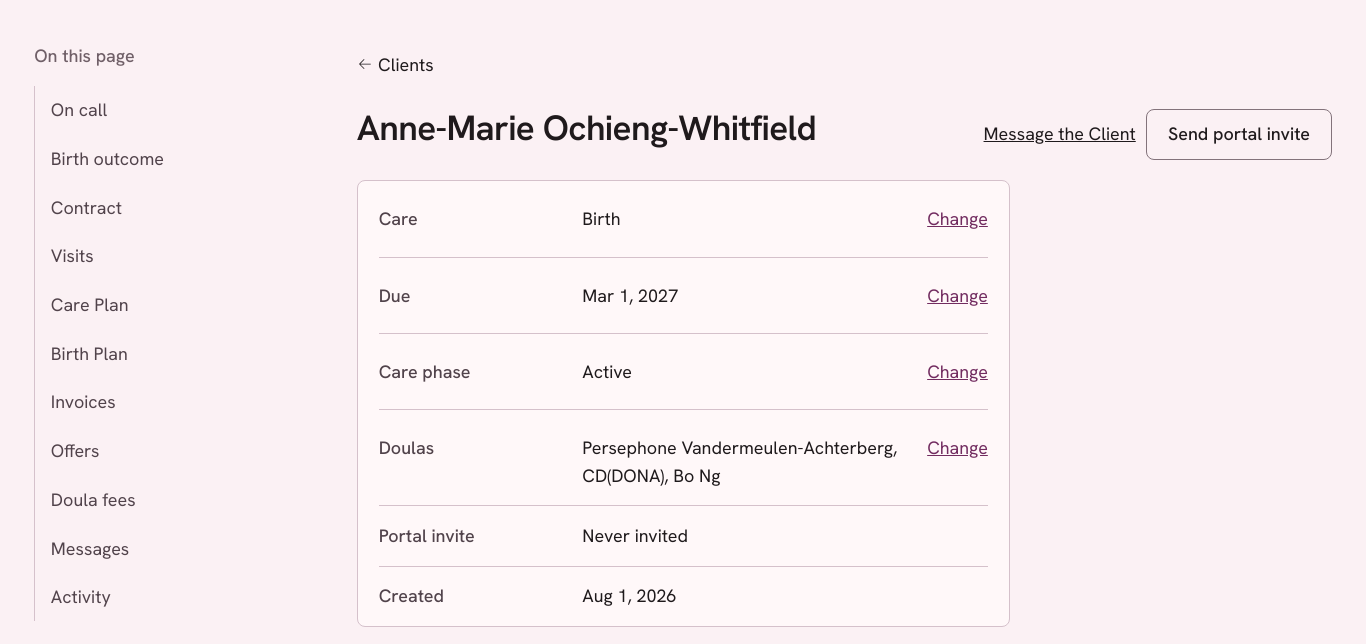
Scenario: the due date's Change (#2013) › refuses a date with a box left empty before anything is sent
Step 1. Click the button "Change" in the row of "Mar 1, 2027" → (958, 295), box [927, 273, 988, 317]
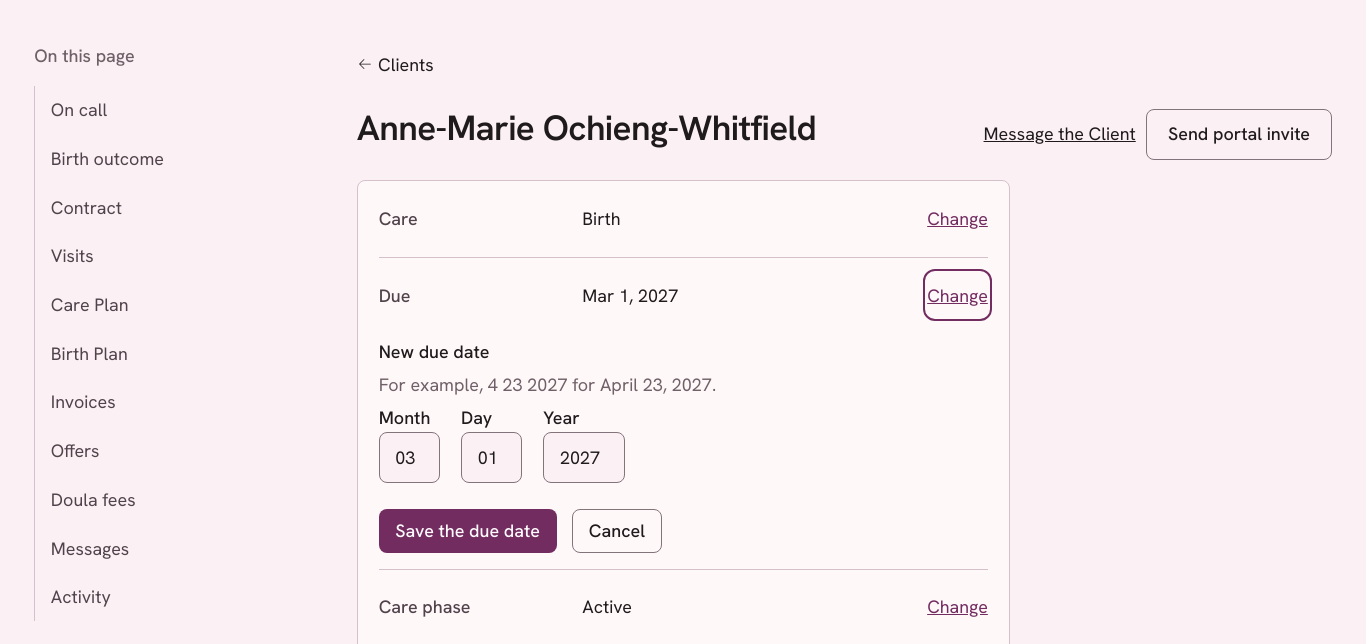
Step 2. Clear the field labelled "Year" → (584, 458), box [543, 432, 625, 483]
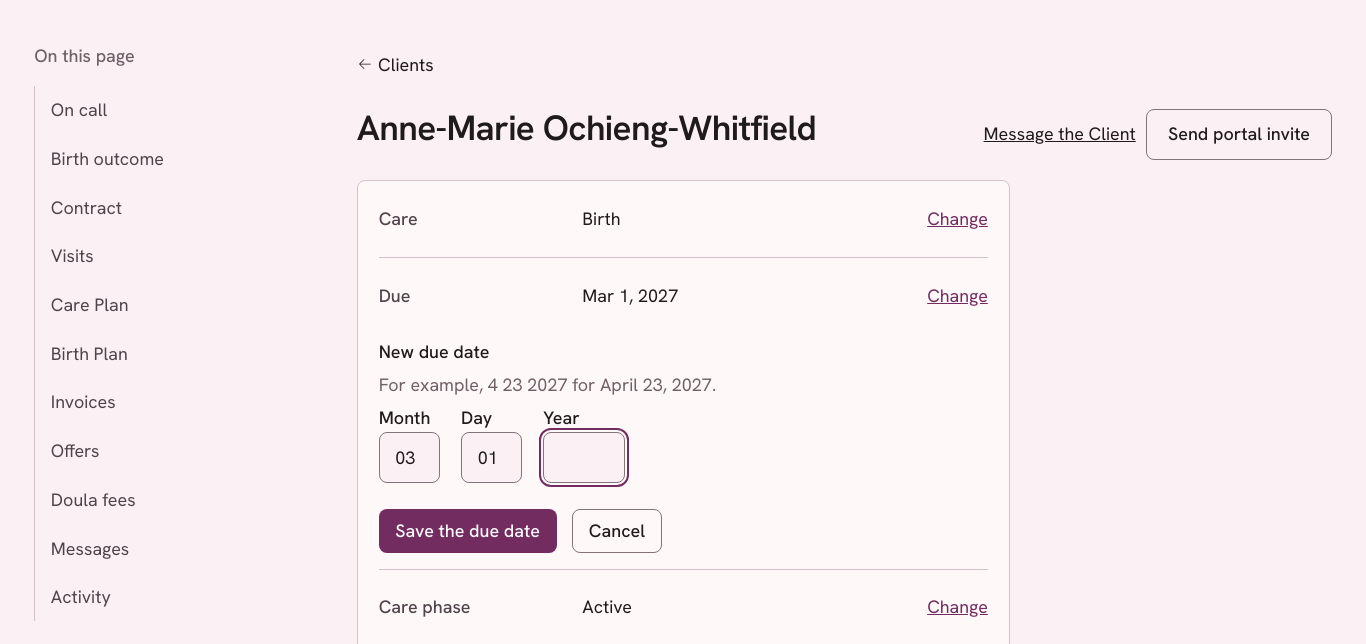
Step 3. Click the button "Save the due date" → (468, 531), box [379, 509, 556, 553]
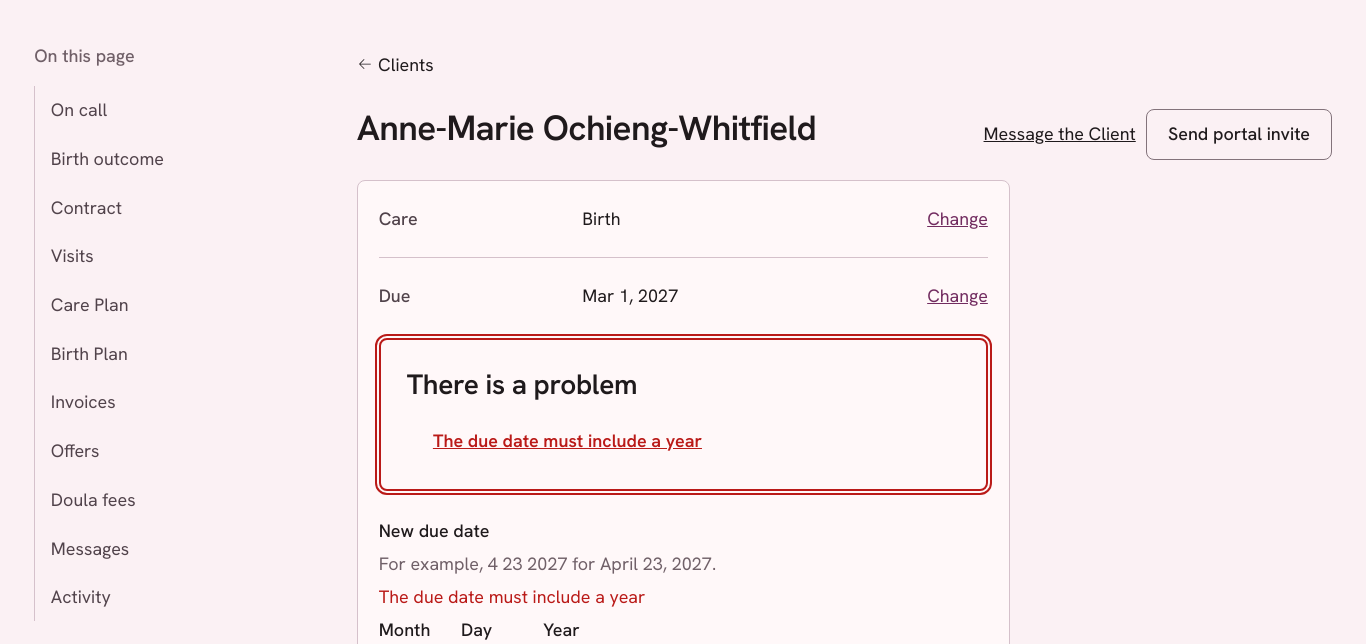
Expected: the link "The due date must include a year" is shown, [433, 429, 702, 452]
